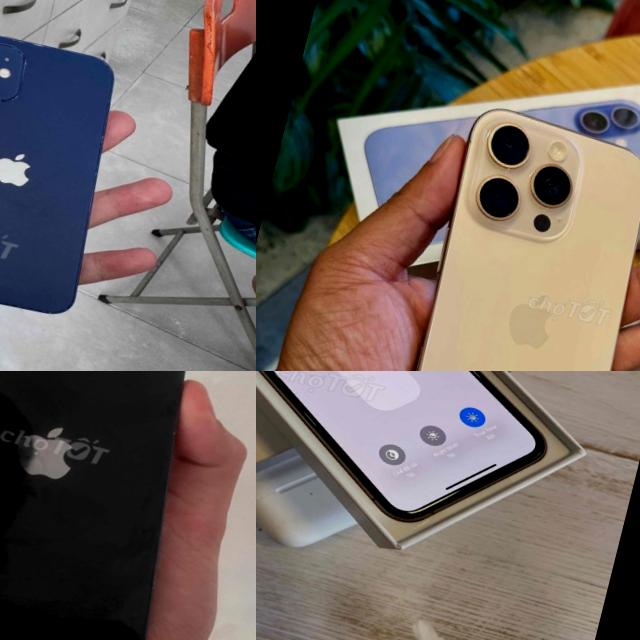gen_12_13: (0, 371, 241, 640), (0, 17, 137, 327)
gen_16: (360, 78, 640, 371)
gen_x_xs: (256, 371, 640, 592)
